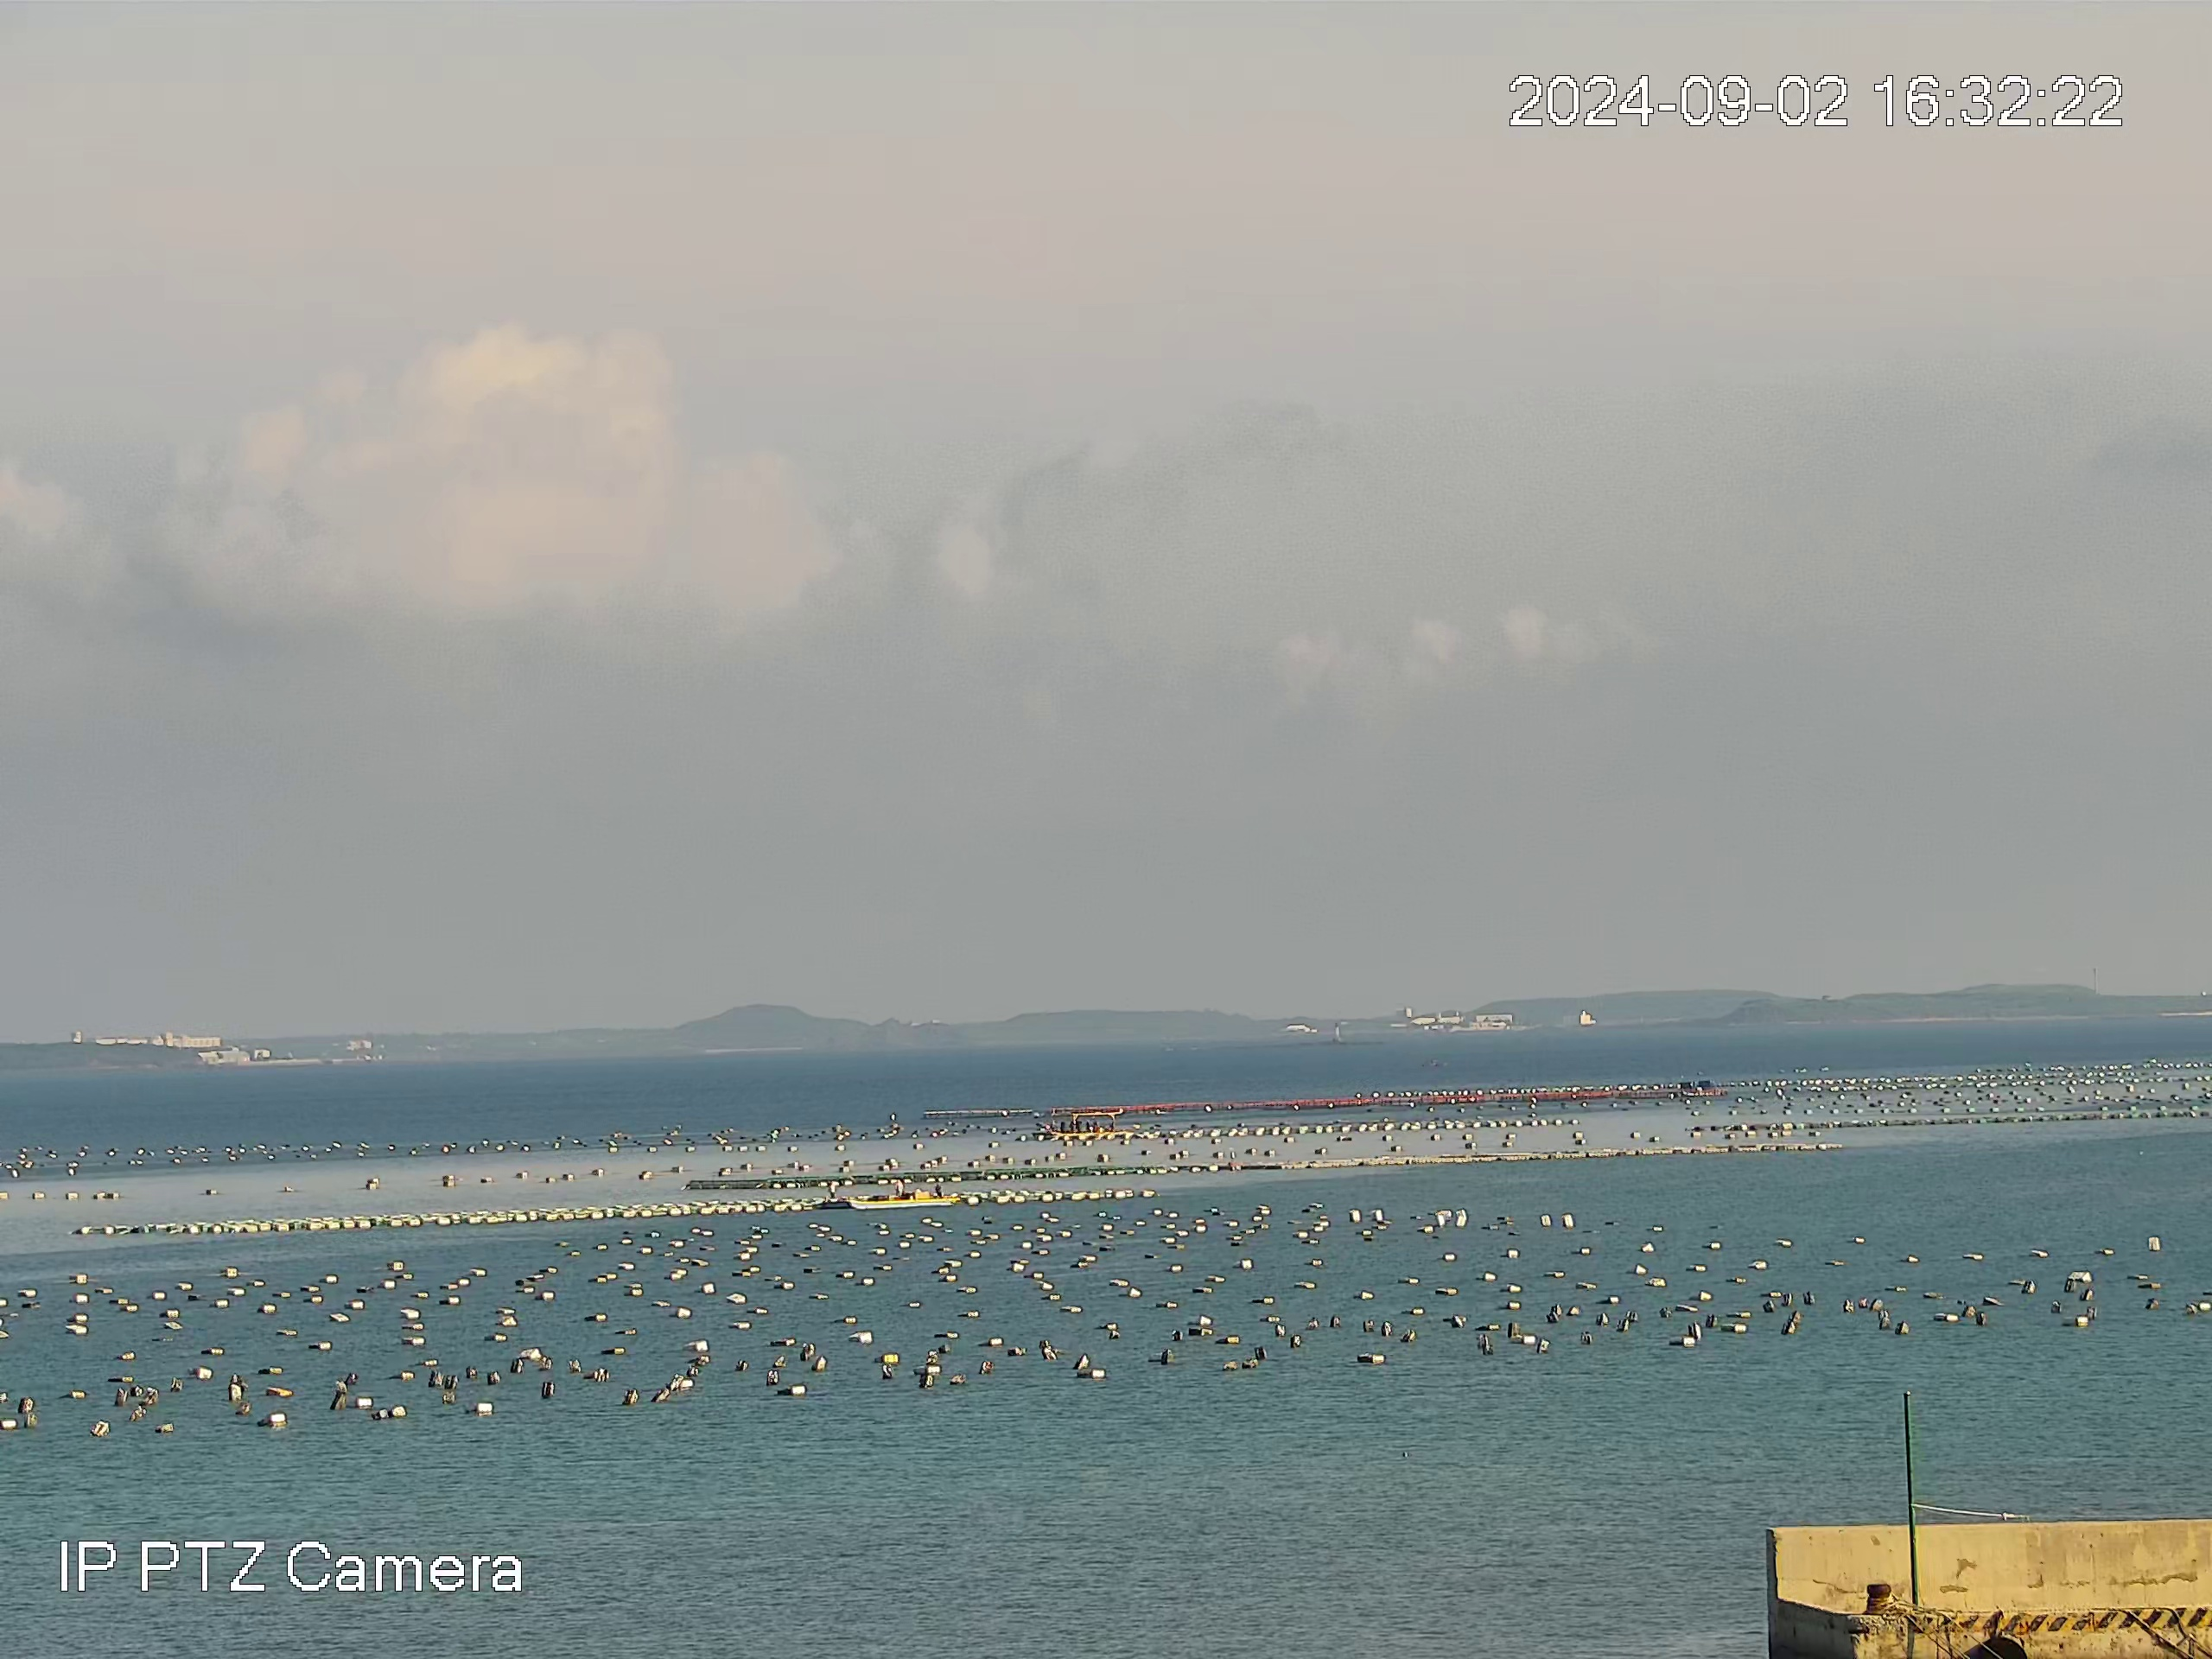boat: (843, 1178, 960, 1211), (1062, 1108, 1129, 1140)
